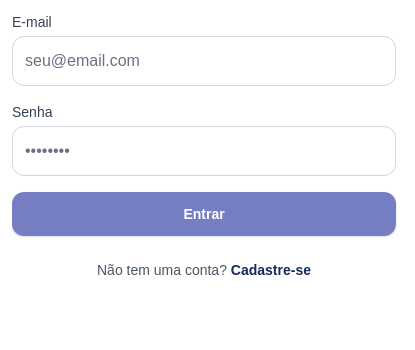
Test case: [US02] LoginFlow Integration › Deve exibir o banner de alerta e não gravar token no localStorage quando credenciais forem inválidas
The width and height of the screenshot is (415, 350).
Type "usuario.errado@uefs.br" into the field labelled "E-mail" at [204, 61], box [12, 36, 396, 86]
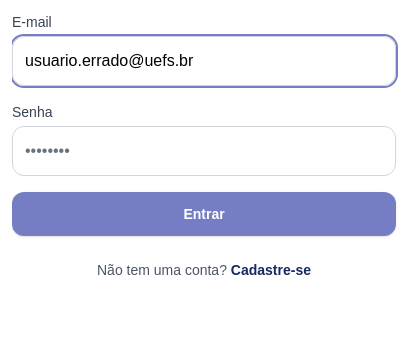
Type "senhaIncorreta" into the password field labelled "Senha" at [204, 151], box [12, 126, 396, 176]
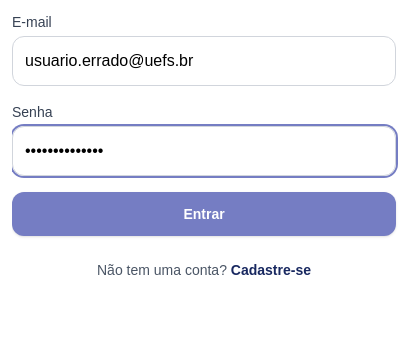
Click the button at [204, 214], box [12, 192, 396, 236]
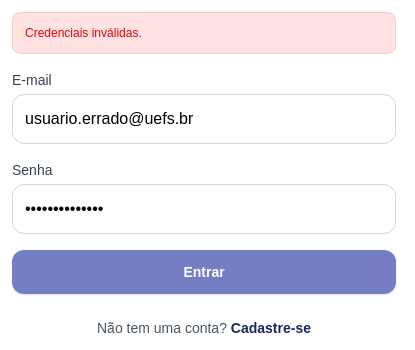
Result: the message reads "Credenciais inválidas." at [25, 26, 142, 40]
